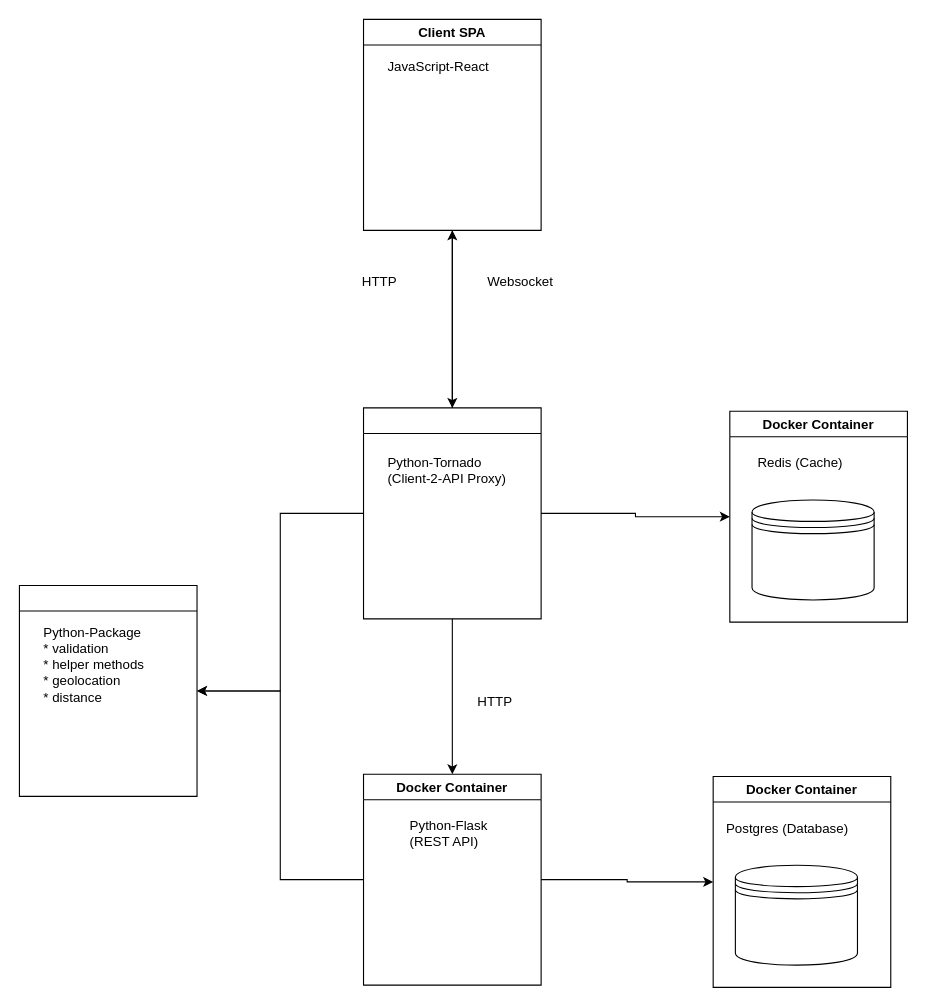
Some shapes in this 927 by 1007 pixel diagram are drawn without their labels. The box of each missing label's shape, as (x1, y1, x2, y2) in pixels:
Linux Service: (362, 407, 541, 619)
Shared Library: (18, 584, 197, 796)
